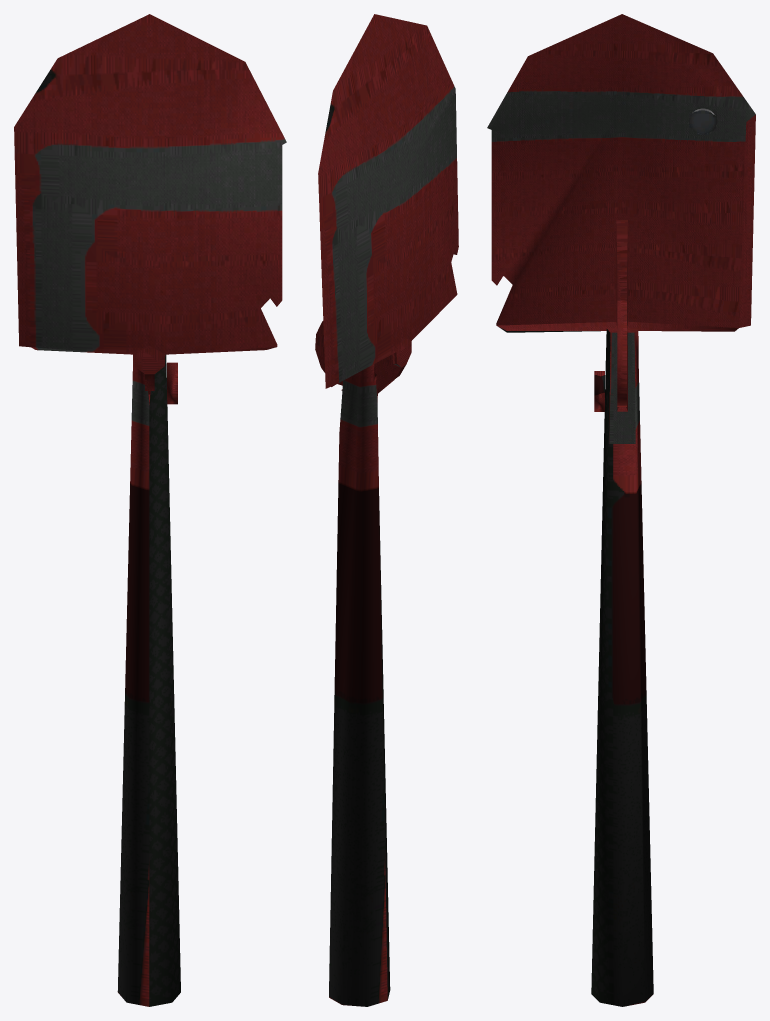
Rendered from Melee_Prop_Baton_Prop_LOD_(000570).glb.
3 renders of one model, left to right at view 1: azimuth 90°, elevation 25°; view 2: azimuth 150°, elevation 25°; view 3: azimuth 270°, elevation 25°, orthographic.
Parts seen in each view (by area): view 1: jq_lod1; view 2: jq_lod1; view 3: jq_lod1.
Boxes of the visible parts, box(x1,y1,x2,y2) form: jq_lod1: box(14, 14, 286, 1006); jq_lod1: box(315, 14, 458, 1006); jq_lod1: box(487, 14, 755, 1006).
Size of the model in its own units: 0.0702 by 0.762 by 0.191.
1 material, 1 textured.
